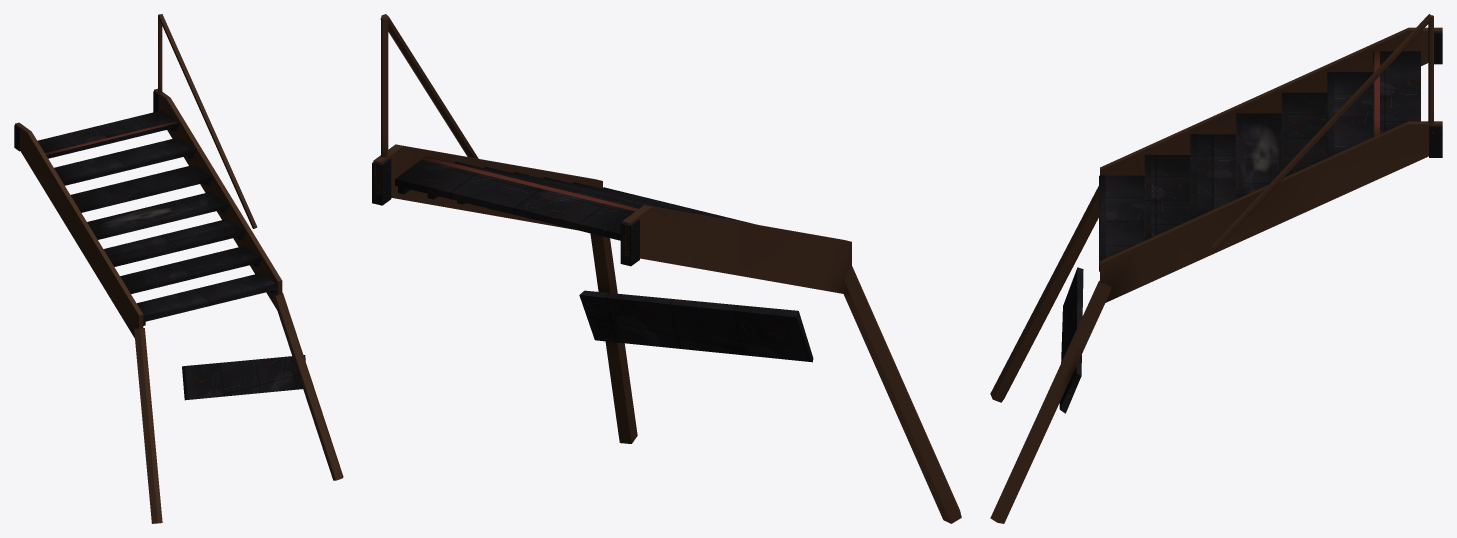
Rendered from stair_flight_broken.glb.
3 views of the same model, side by side, from view 1: azimuth 30°, elevation 25°; view 2: azimuth 150°, elevation 25°; view 3: azimuth 270°, elevation 25° (orthographic). The views are drawn at different scales.
Parts seen in each view (by area): view 1: body; view 2: body; view 3: body, decals.
Boxes of the visible parts, x1,y1,x2,y2 form: body: [14, 14, 343, 523]; body: [372, 14, 961, 523]; body: [990, 14, 1442, 523]; decals: [1252, 128, 1277, 171].
Size of what is drawn, in the model's own units: 2.68 by 4.77 by 3.96.
5 materials, 3 textured.
